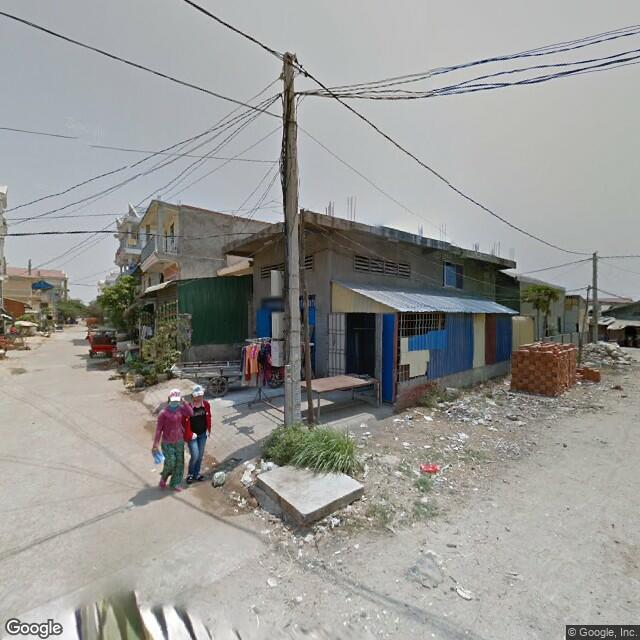litter: (448, 565, 474, 601), (327, 507, 348, 535), (204, 472, 231, 490), (296, 527, 320, 547), (441, 384, 463, 398), (417, 460, 441, 472), (612, 380, 630, 395)
